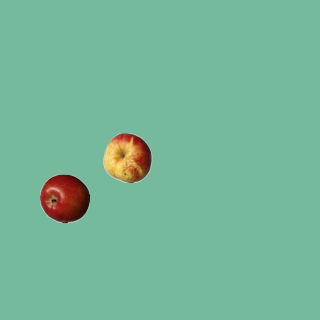Apple Braeburn: (39, 173, 89, 223)
Apple Red Yellow 1: (102, 132, 152, 182)
